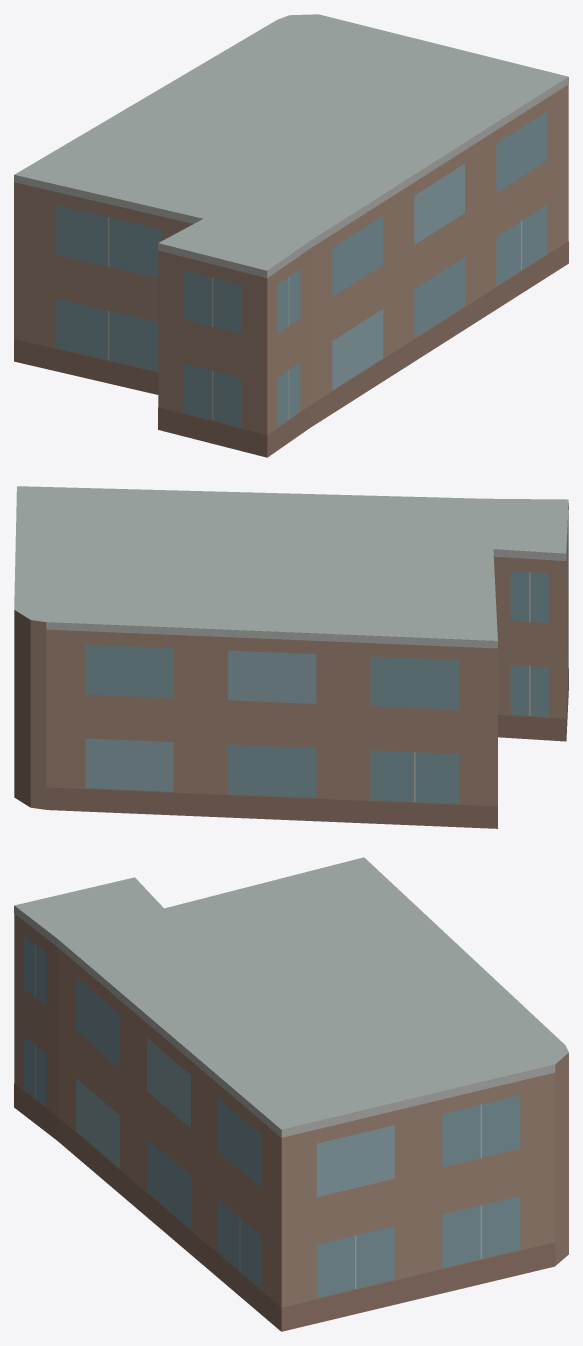
The model's file is survey-upis-32685617.glb.
The picture shows the model from 3 angles, top to bottom: view 1: azimuth 30°, elevation 25°; view 2: azimuth 150°, elevation 25°; view 3: azimuth 270°, elevation 25°; orthographic projection. The views are drawn at different scales.
Visible parts, largest first — view 1: survey-upis-32685617.tmp; view 2: survey-upis-32685617.tmp; view 3: survey-upis-32685617.tmp.
Part boxes in pixels (x1,y1,x2,y2): survey-upis-32685617.tmp: (14, 14, 568, 457); survey-upis-32685617.tmp: (14, 486, 568, 828); survey-upis-32685617.tmp: (14, 857, 568, 1331).
Bounding box in the file's own units: 17.67 × 6.1 × 15.19.
